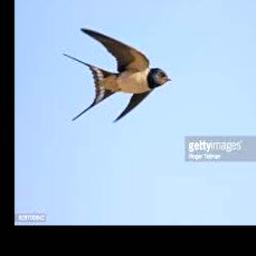Swallow: (63, 27, 171, 122)
